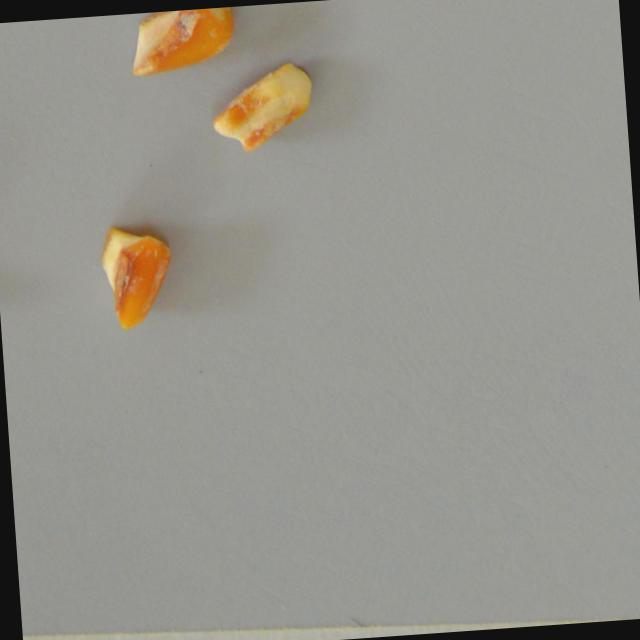dañado: (205, 55, 321, 160), (94, 219, 178, 335), (124, 5, 239, 79)
